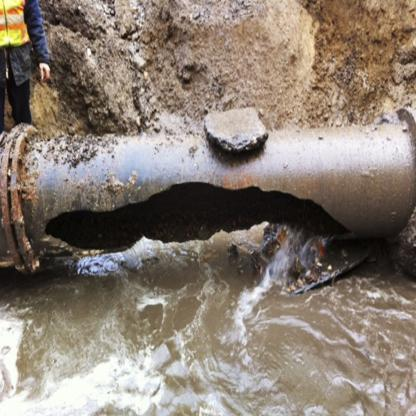burst: (38, 175, 365, 264)
